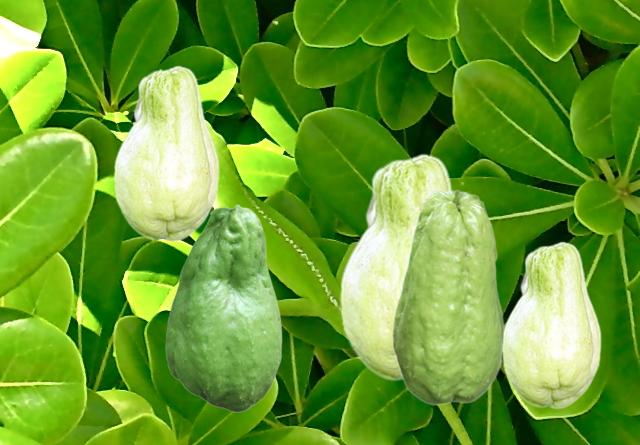sayote: (339, 153, 454, 382), (391, 189, 504, 405), (165, 204, 281, 411), (113, 65, 218, 241), (502, 241, 600, 408)
